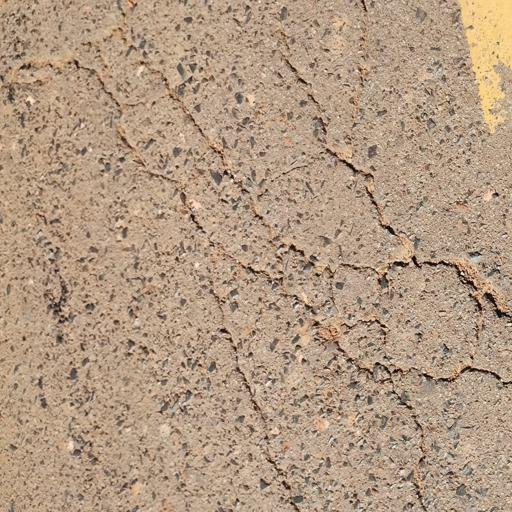GRIETA: (221, 328, 298, 511), (400, 397, 427, 511)
PIEL DE COCODRILO: (0, 0, 511, 405)
